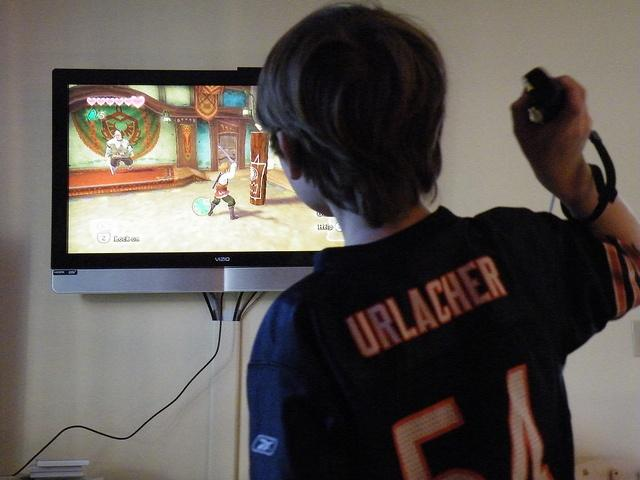AIO PC-Monitor-TV: (49, 67, 344, 292)
